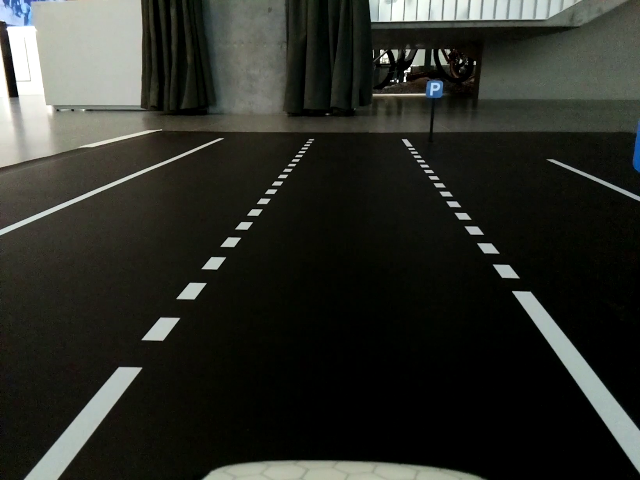park: (425, 81, 444, 100)
